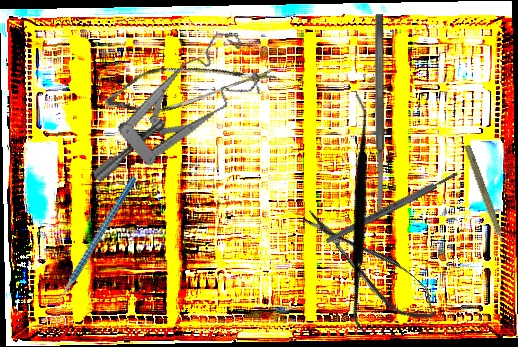Chopper: (15, 175, 175, 324)
Handpiece: (459, 143, 511, 254)
Micro Scissor: (296, 196, 445, 333), (100, 28, 279, 139)
Scalpel Handle: (324, 170, 460, 245)
Spatula Surgical: (254, 91, 470, 338), (374, 14, 385, 213)
Speculum: (64, 25, 276, 185)
